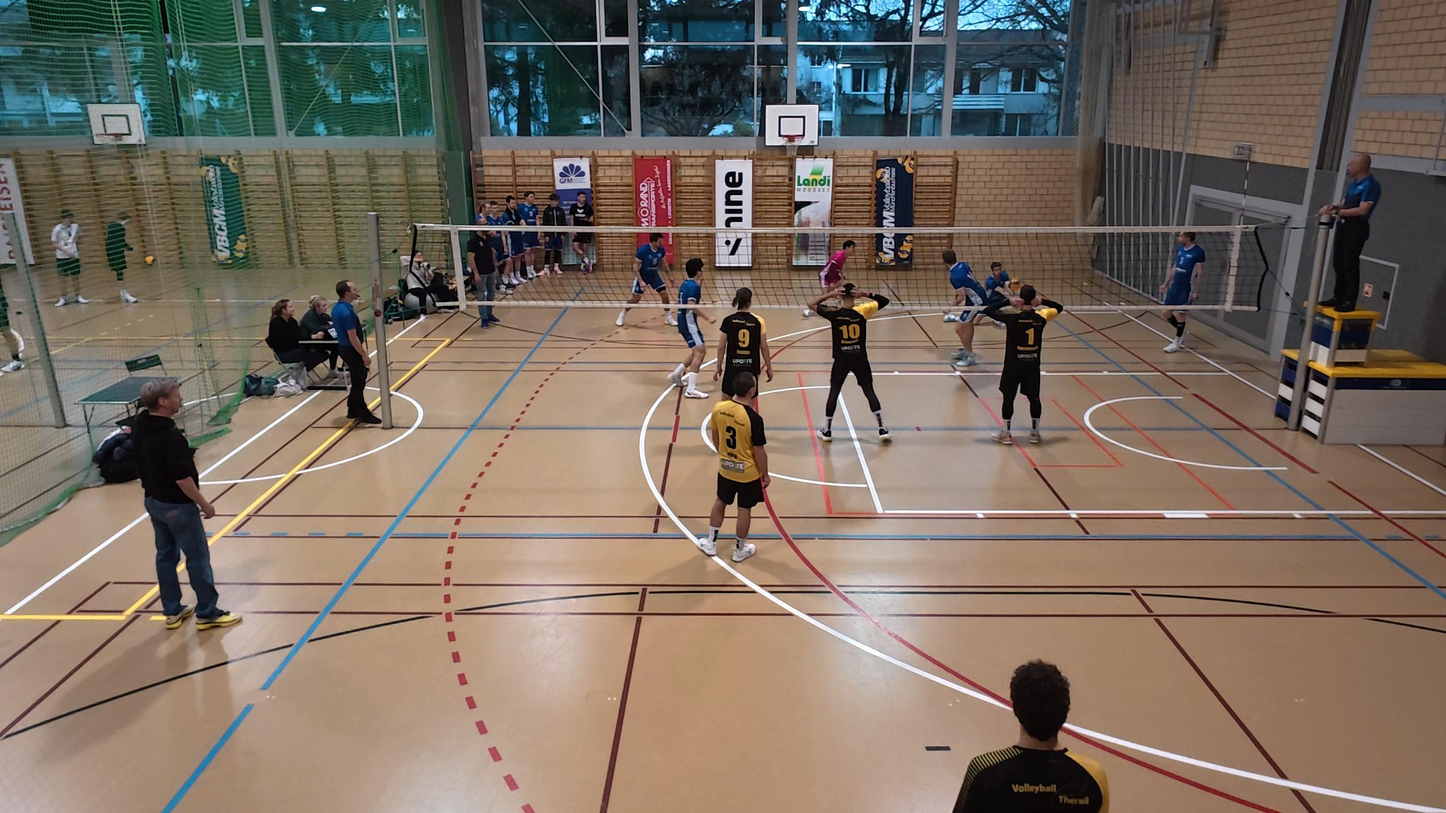ricezione: (970, 240, 1023, 326)
